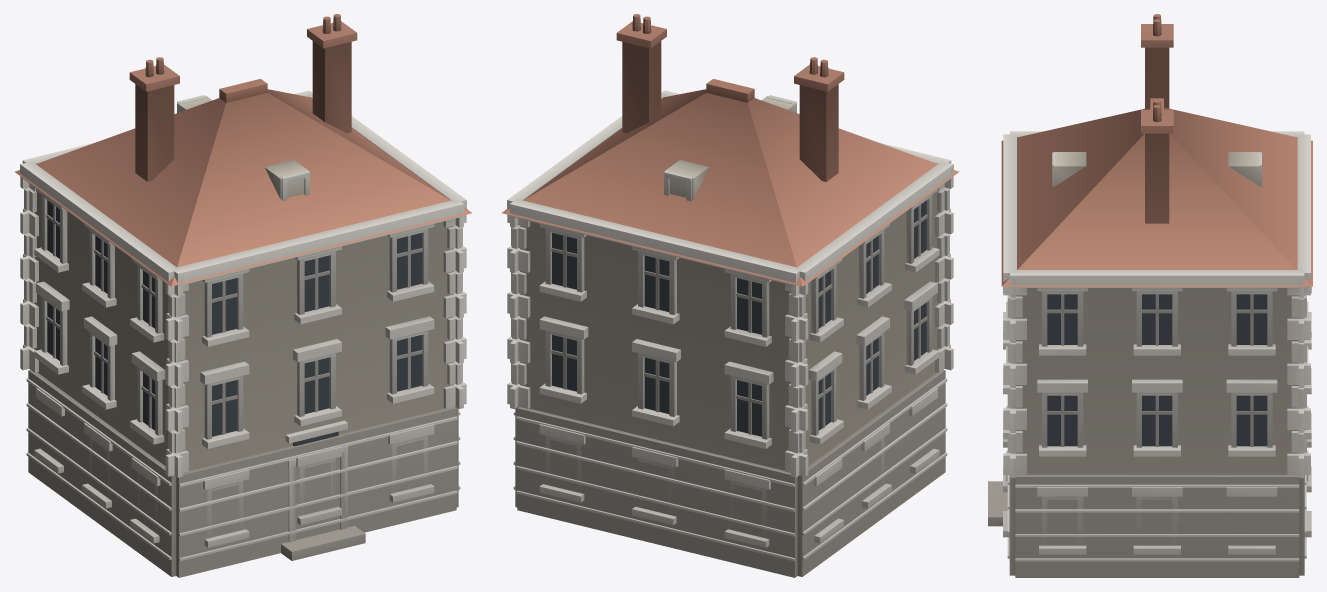
The model's file is house_early_3.glb.
The picture shows the model from 3 angles, left to right: view 1: azimuth 30°, elevation 25°; view 2: azimuth 150°, elevation 25°; view 3: azimuth 270°, elevation 25°; orthographic projection.
Parts seen in each view (by area): view 1: Body_Detail, Body_Wall, Body_Roof; view 2: Body_Detail, Body_Wall, Body_Roof; view 3: Body_Detail, Body_Roof, Body_Wall.
Part boxes in pixels (bbox=[...]): Body_Detail: bbox=[20, 14, 466, 577]; Body_Wall: bbox=[34, 96, 453, 470]; Body_Roof: bbox=[14, 79, 472, 286]; Body_Detail: bbox=[507, 14, 953, 577]; Body_Wall: bbox=[520, 96, 939, 470]; Body_Roof: bbox=[501, 79, 959, 286]; Body_Detail: bbox=[988, 14, 1311, 577]; Body_Roof: bbox=[1001, 98, 1312, 286]; Body_Wall: bbox=[1016, 152, 1298, 474].
Size of the model in its own units: 1.02 by 1.47 by 0.96.
